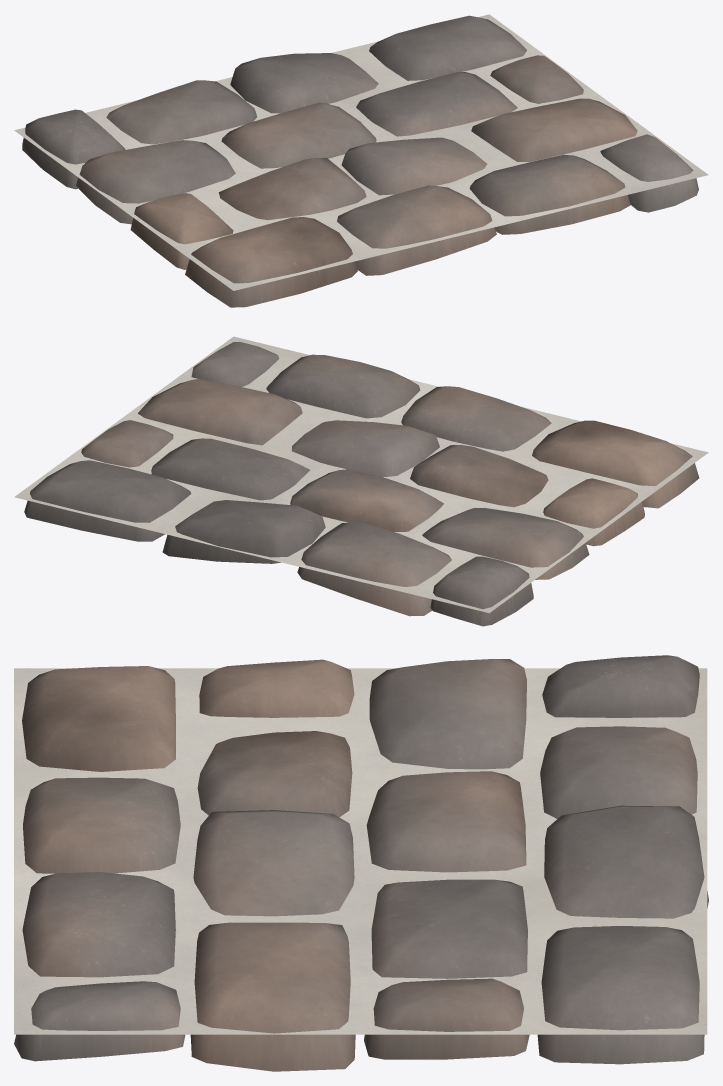
Rendered from cobble_lane_0.glb.
3 views of the same model, one above another, from view 1: azimuth 30°, elevation 25°; view 2: azimuth 150°, elevation 25°; view 3: azimuth 270°, elevation 25° (orthographic). The views are drawn at different scales.
Visible parts, largest first — view 1: model; view 2: model; view 3: model.
Boxes of the visible parts, left/top/right/bottom form: model: left=14, top=14, right=708, bottom=307; model: left=14, top=336, right=708, bottom=626; model: left=14, top=655, right=708, bottom=1071.
Size of the model in its own units: 1.01 by 0.1127 by 0.8021.
2 materials, 2 textured.
